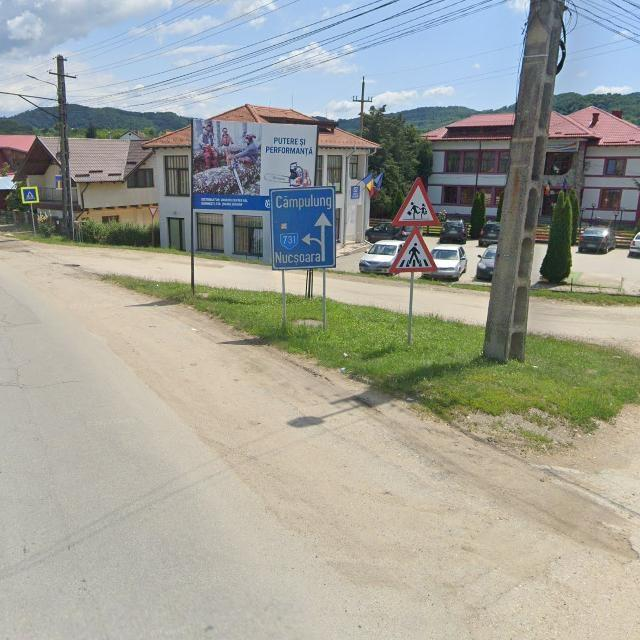info_crosswalk: (21, 187, 39, 204)
warn_crosswalk: (388, 227, 438, 273)
